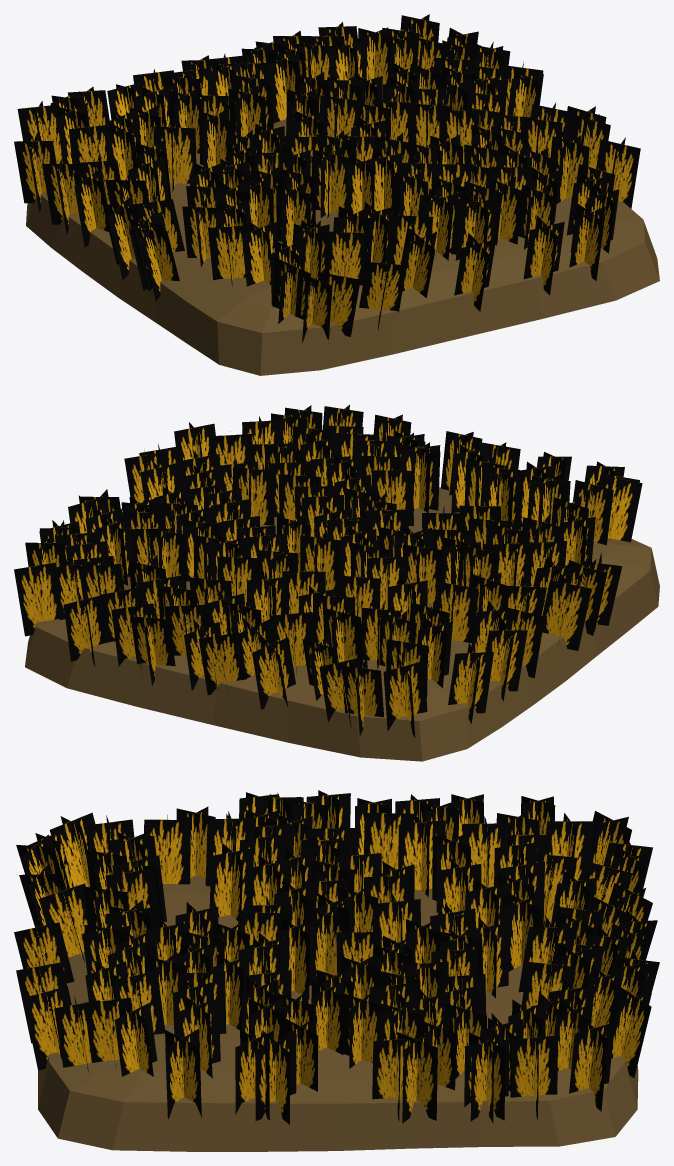
The model's file is hayfield.fbx.
The picture shows the model from 3 angles, top to bottom: view 1: azimuth 30°, elevation 25°; view 2: azimuth 150°, elevation 25°; view 3: azimuth 270°, elevation 25°; orthographic projection. The views are drawn at different scales.
Parts seen in each view (by area): view 1: hayfield_LOD0; view 2: hayfield_LOD0; view 3: hayfield_LOD0.
Part boxes in pixels (x1=…): hayfield_LOD0: x1=14, y1=14, x2=659, y2=375; hayfield_LOD0: x1=14, y1=404, x2=659, y2=761; hayfield_LOD0: x1=14, y1=790, x2=659, y2=1151.
Size of what is drawn, in the model's own units: 21.97 by 5.14 by 22.41.
